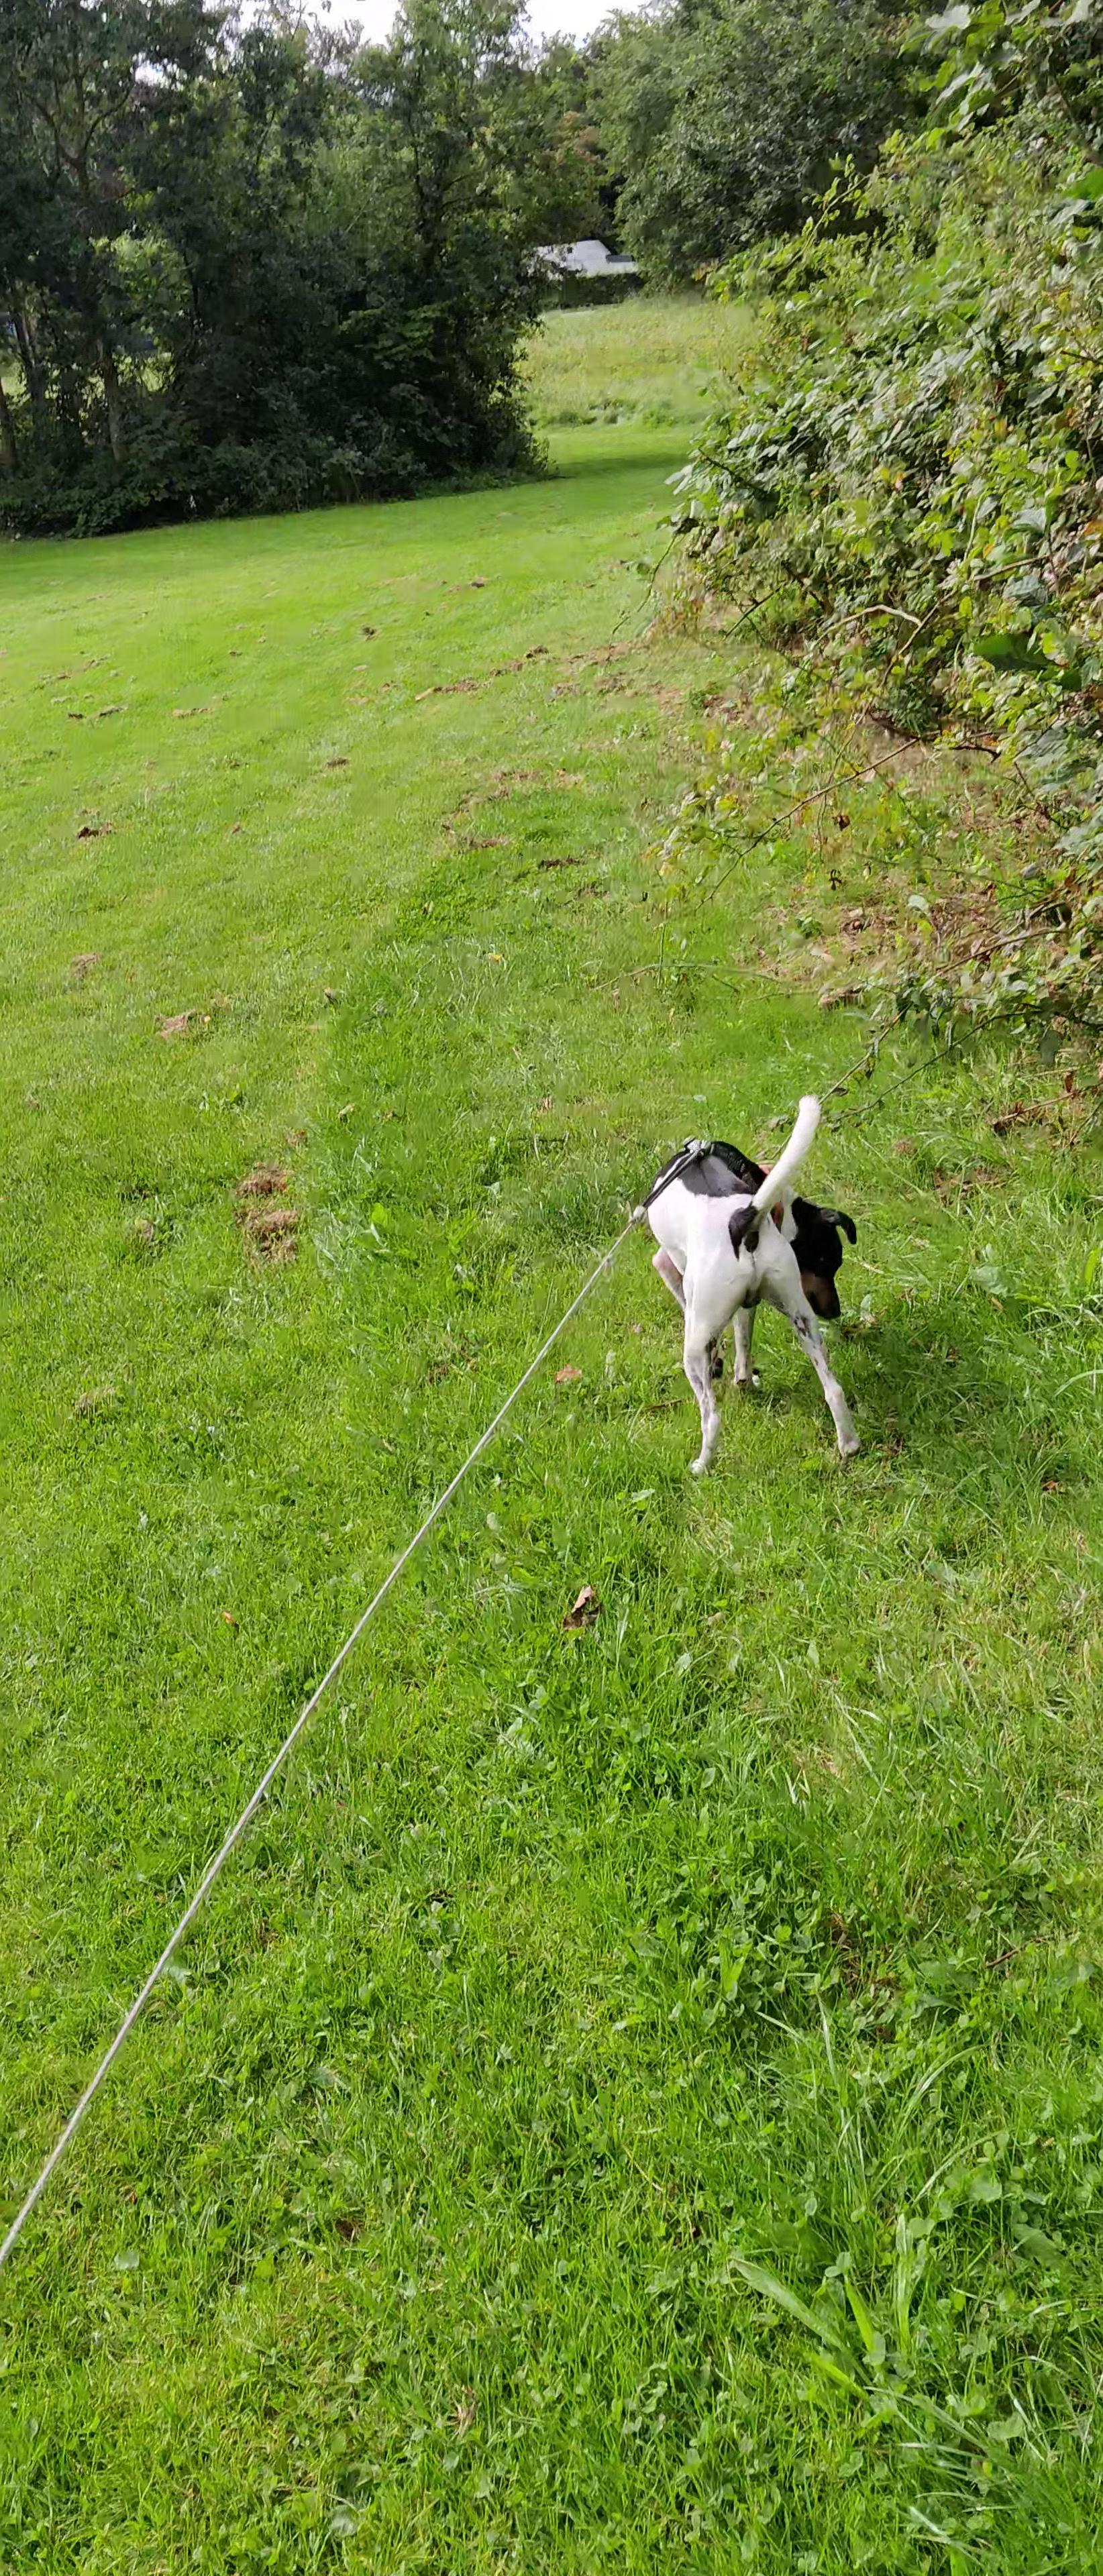Dog: (625, 1089, 875, 1482)
